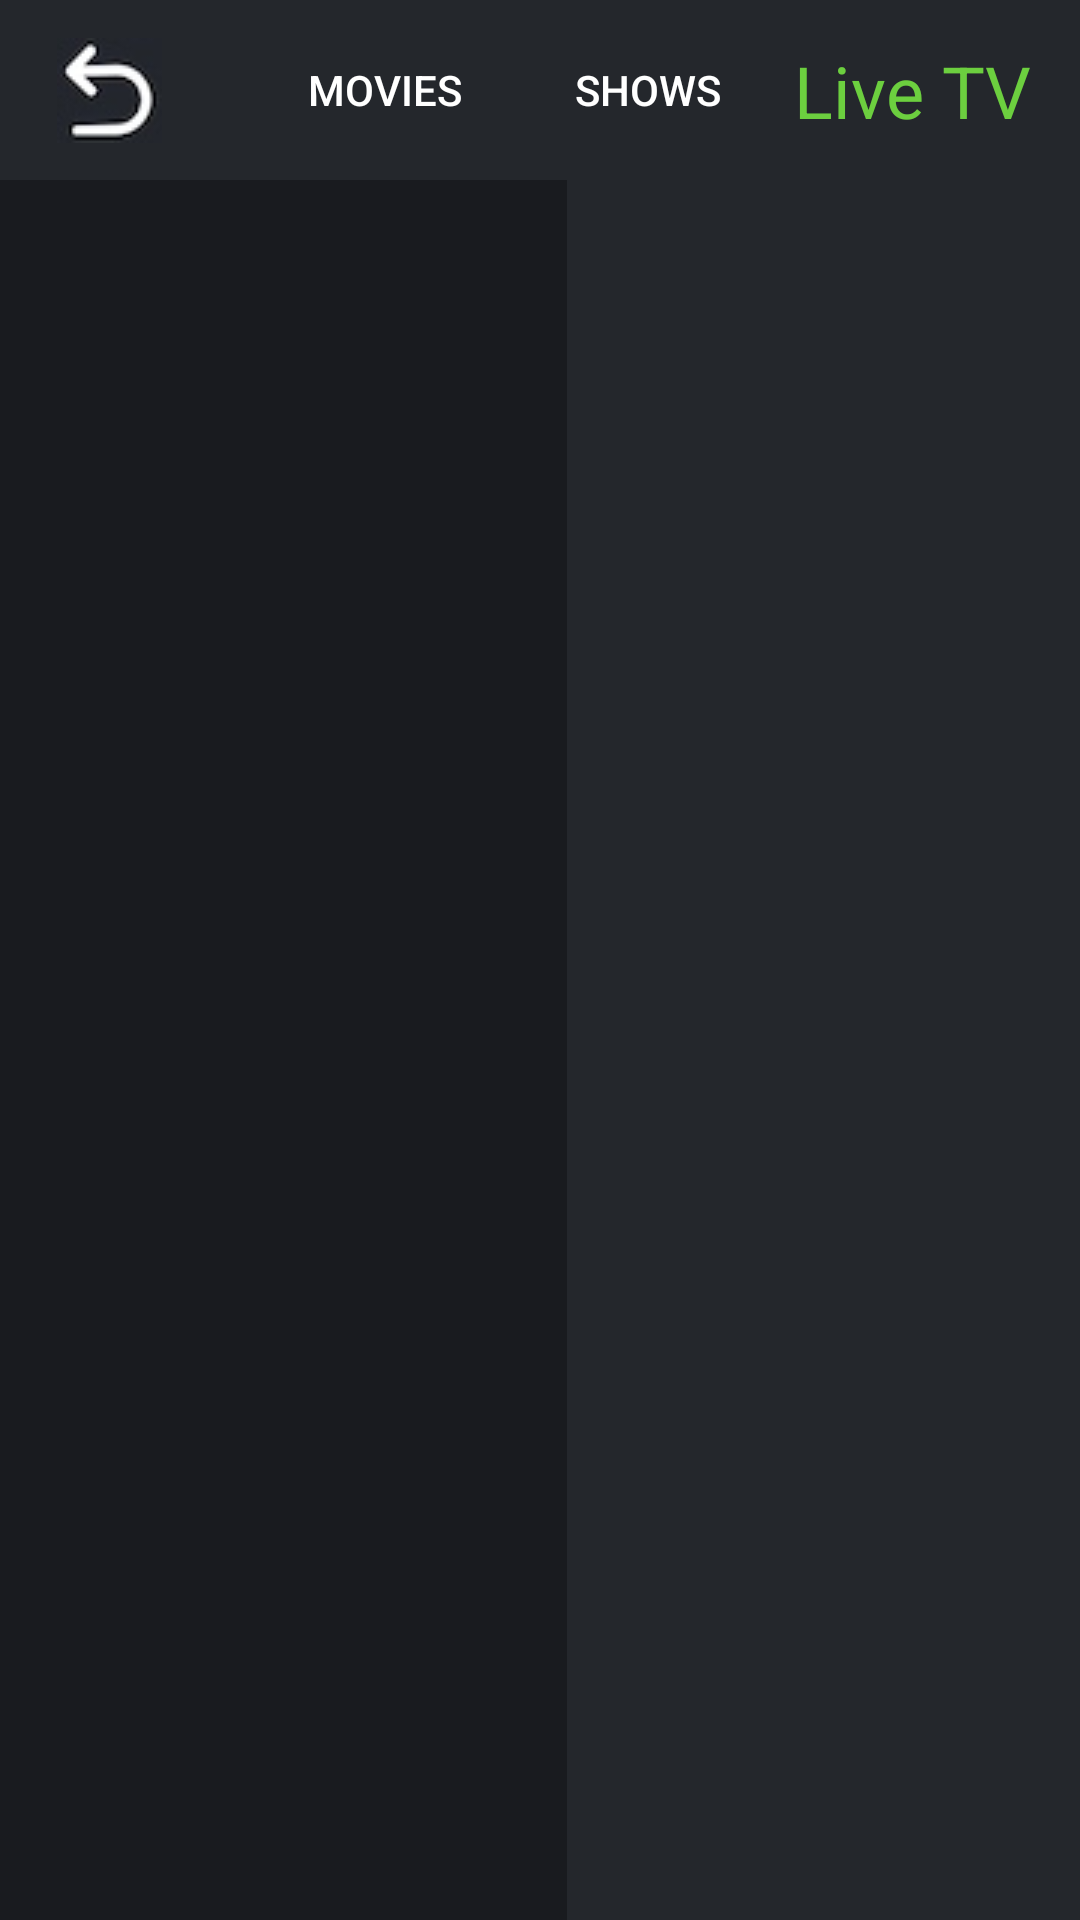

Icon click points for this 1080px x 1920px phone screenshot, format [x,y]:
Back: [110,90]
